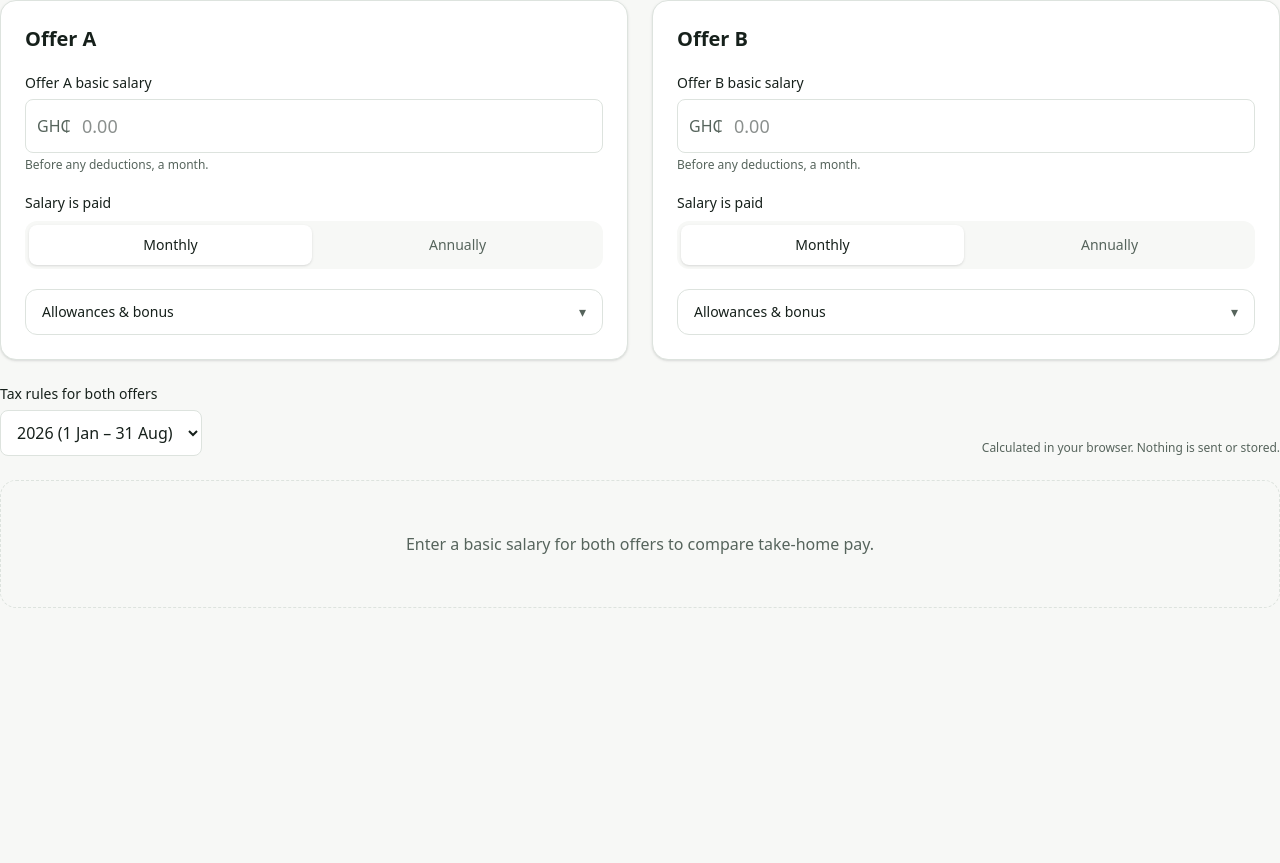
SalaryComparison › waits for both offers, then shows the difference and a side-by-side table
The width and height of the screenshot is (1280, 863).
Type "6000" into the field labelled "Offer A basic salary" at x=314, y=126, box [25, 99, 603, 153]
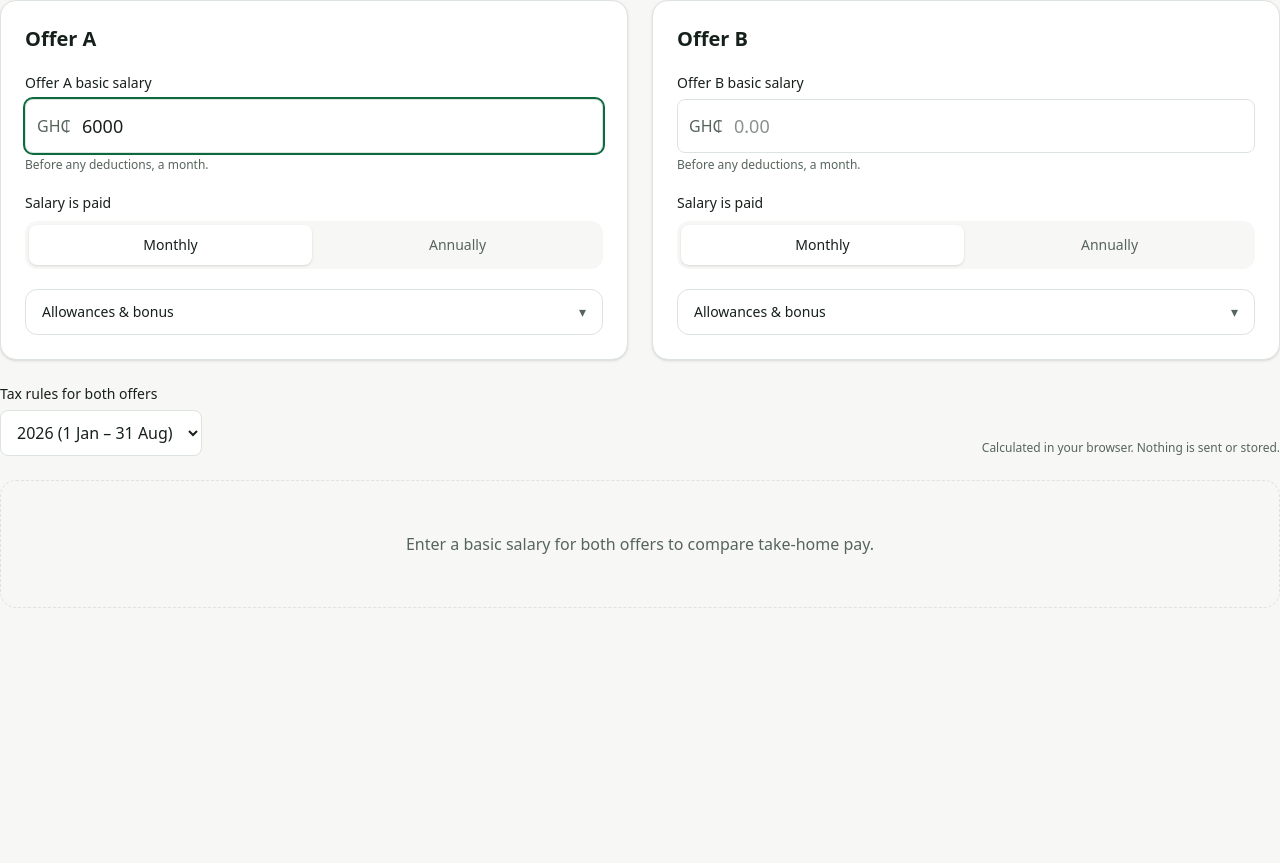
Check: the text "Enter a basic salary for both offers" is shown, box [406, 533, 874, 555]
Type "5000" into the field labelled "Offer B basic salary" at x=966, y=126, box [677, 99, 1255, 153]
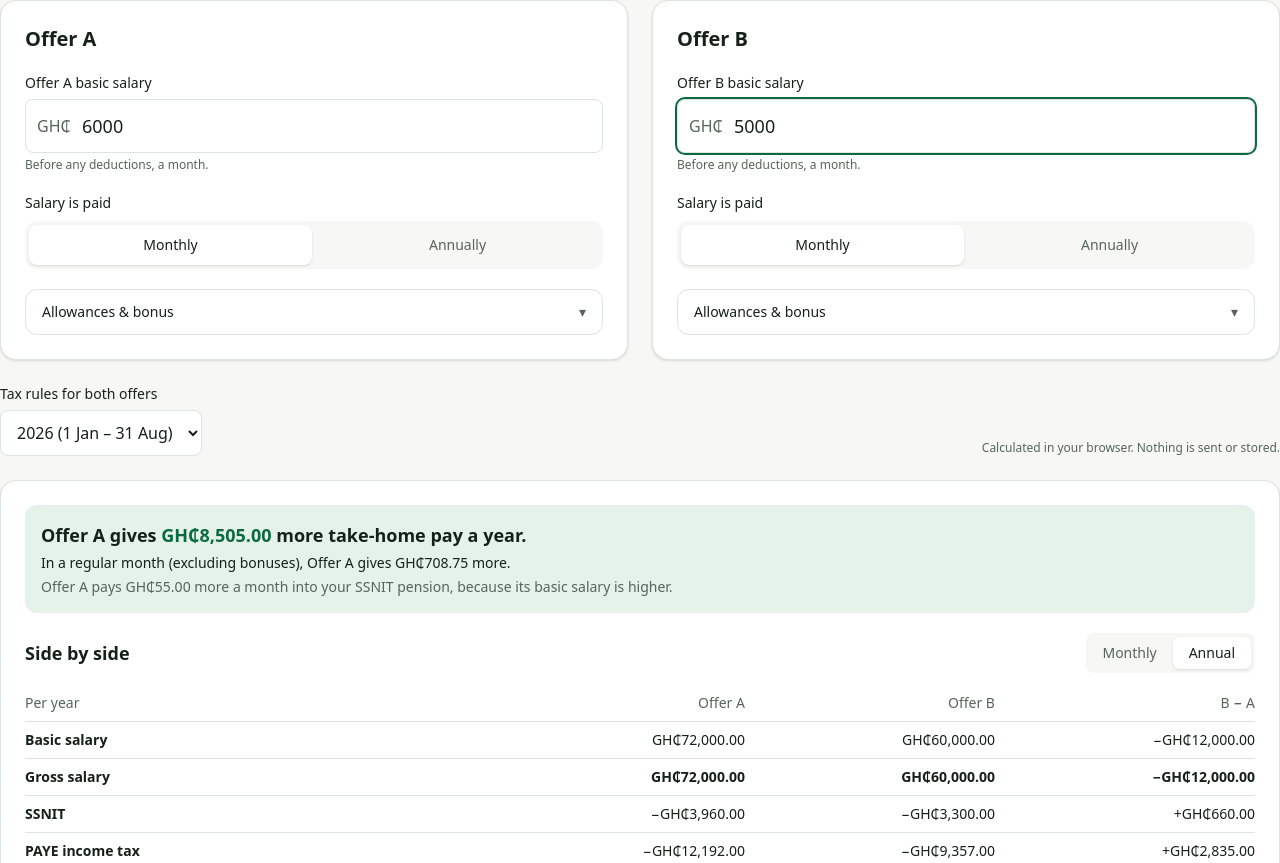
Click the heading "Allowances & bonus ▾" below "Offer B basic salary" at x=760, y=312, box [694, 302, 1238, 321]
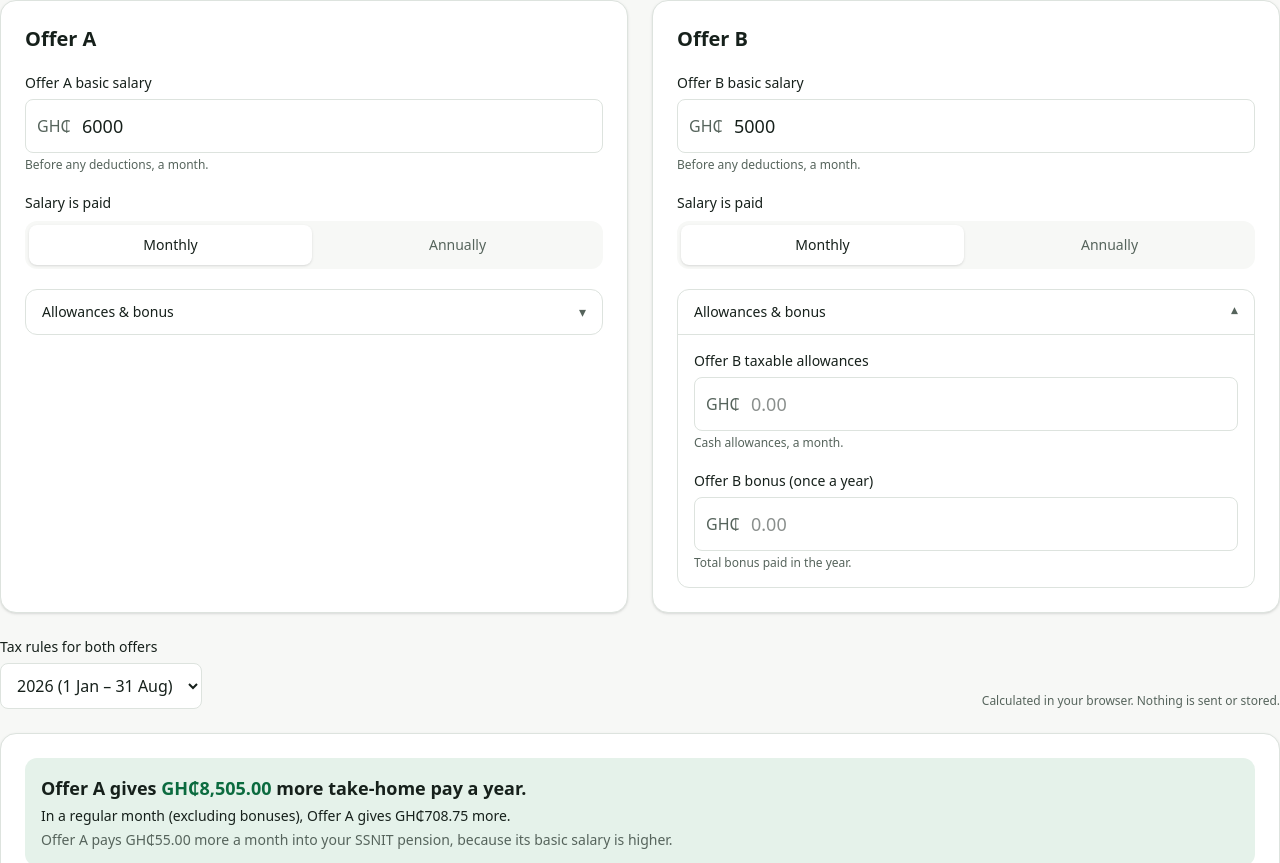
Type "1000" into the field labelled "Offer B taxable allowances" at x=966, y=404, box [694, 377, 1238, 431]
(page scrolled)
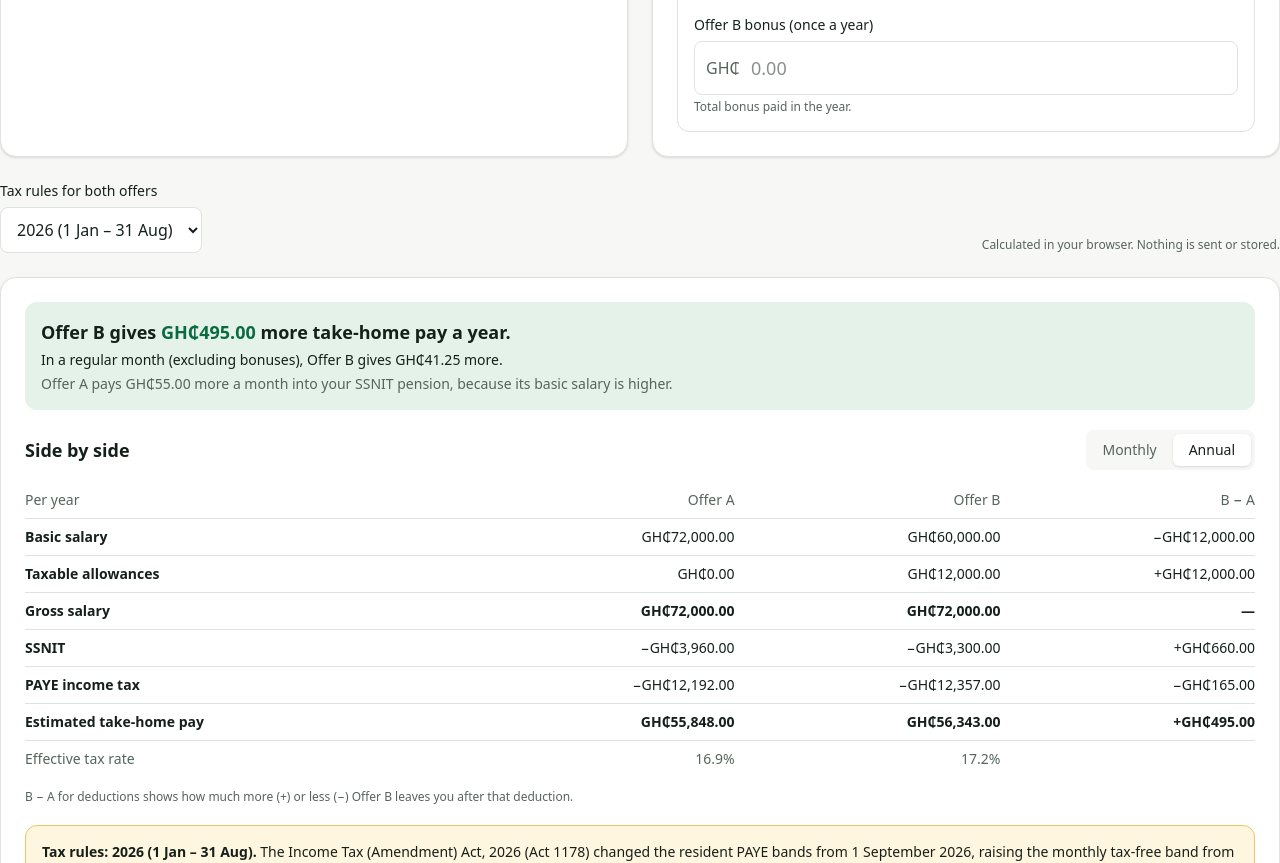
Check: the element with test id "comparison-summary" shows "Offer A pays GH₵55.00 more a month into your SSNIT pension", box [25, 302, 1255, 410]
Check: the element with test id "comparison-summary" shows "Offer B gives GH₵495.00 more take-home pay a year.", box [25, 302, 1255, 410]
Check: the element with test id "comparison-summary" shows "In a regular month (excluding bonuses), Offer B gives GH₵41.25 more.", box [25, 302, 1255, 410]
Click the button "Monthly" at x=1130, y=450, box [1090, 434, 1169, 466]
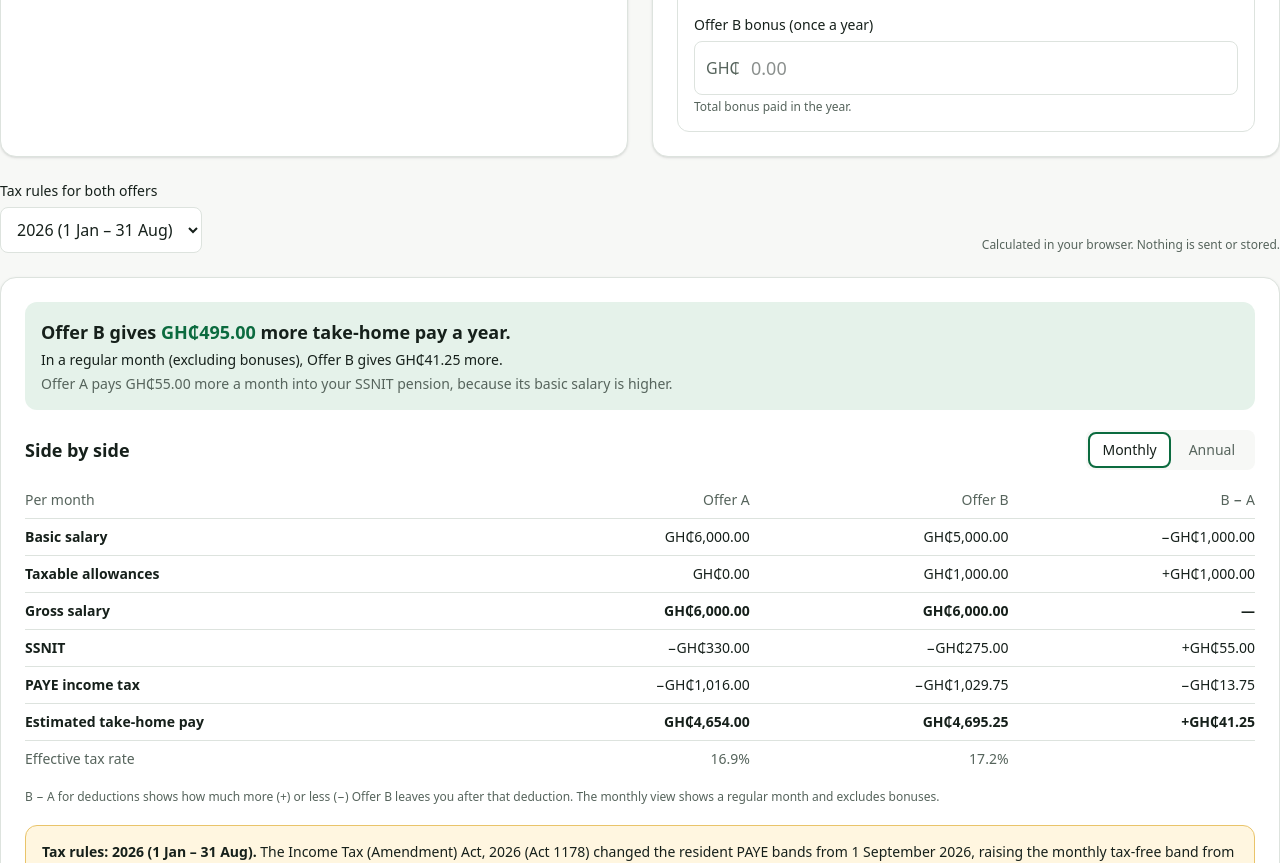
Check: the row "Estimated take-home pay" shows "+GH₵41.25", box [1181, 712, 1255, 731]
